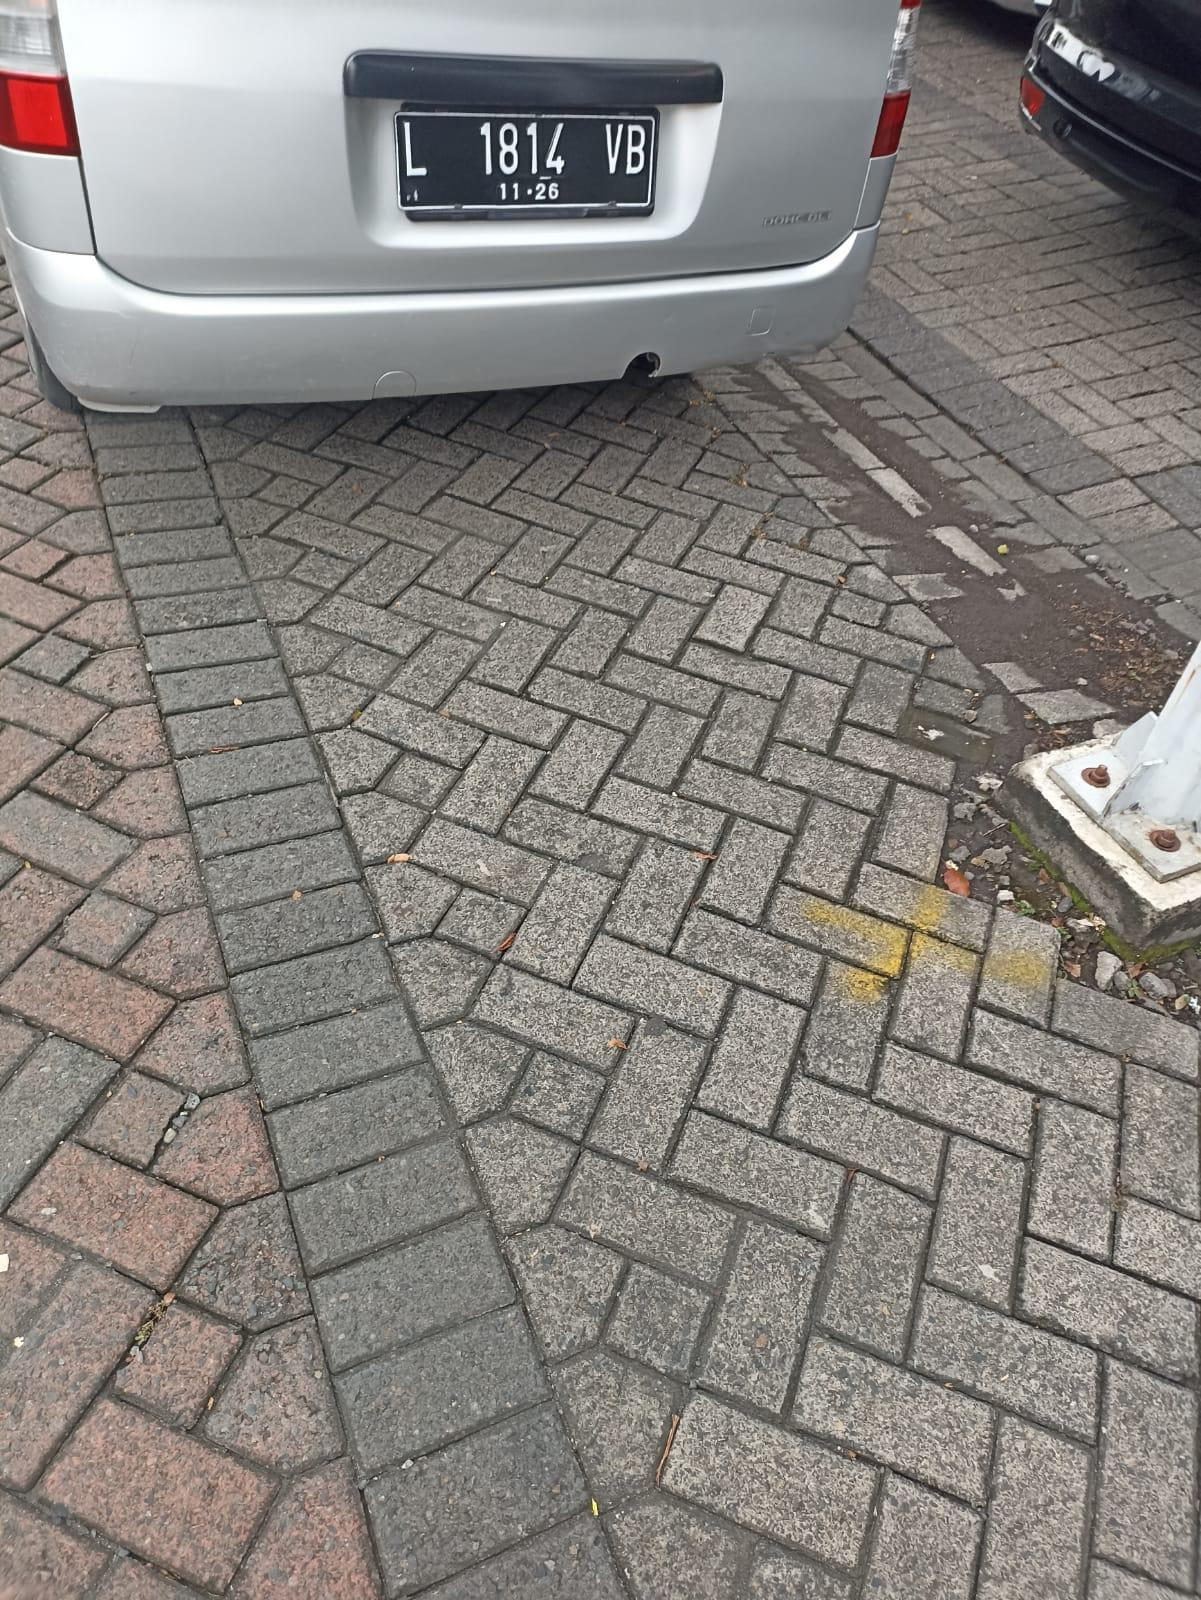plat: (394, 110, 660, 218)
